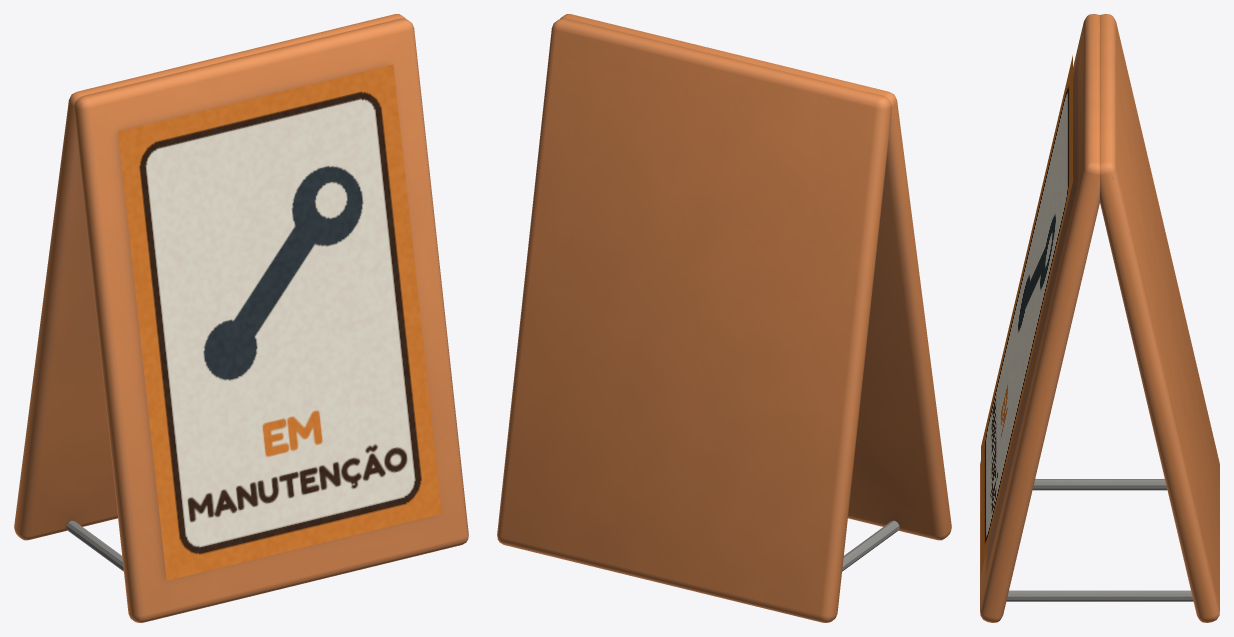
File: MaintenanceSign.fbx
The picture shows the model from 3 angles, left to right: view 1: azimuth 30°, elevation 25°; view 2: azimuth 150°, elevation 25°; view 3: azimuth 270°, elevation 25°; orthographic projection. The views are drawn at different scales.
Visible parts, largest first — view 1: MaintenanceSign; view 2: MaintenanceSign; view 3: MaintenanceSign.
Part boxes in pixels (x1,y1,x2,y2): MaintenanceSign: (14,14,468,622); MaintenanceSign: (497,14,951,622); MaintenanceSign: (980,14,1219,622).
Bounding box in the file's own units: 78 × 108 × 50.93.
